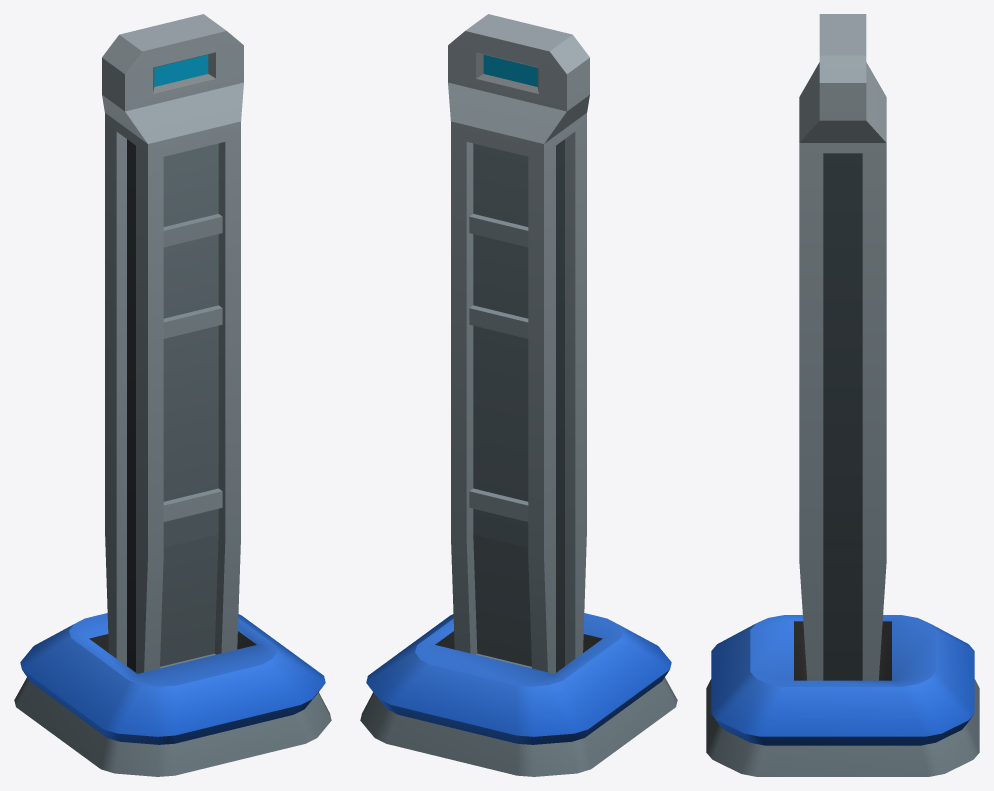
The model's file is obstacle_15_001.fbx.
3 views of the same model, side by side, from view 1: azimuth 30°, elevation 25°; view 2: azimuth 150°, elevation 25°; view 3: azimuth 270°, elevation 25° (orthographic).
Parts seen in each view (by area): view 1: obstacle_15_001; view 2: obstacle_15_001; view 3: obstacle_15_001.
Boxes of the visible parts, box(x1,y1,x2,y2) form: obstacle_15_001: box(14, 14, 331, 776); obstacle_15_001: box(360, 14, 677, 776); obstacle_15_001: box(706, 14, 979, 776).
Bounding box in the file's own units: 225 × 230 × 636.
